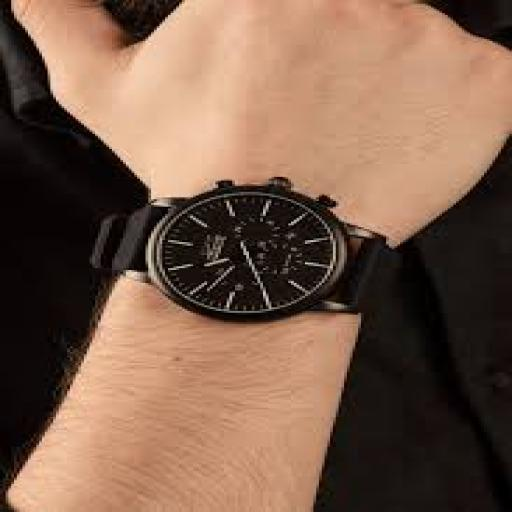KolSaati: (59, 176, 454, 336)
